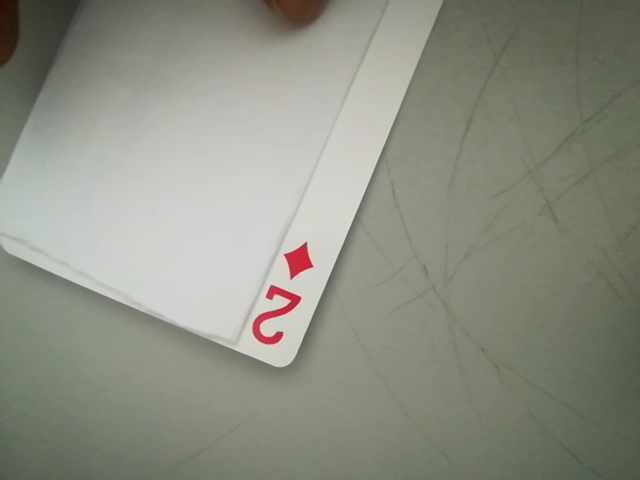fk 2: (237, 237, 325, 359)
